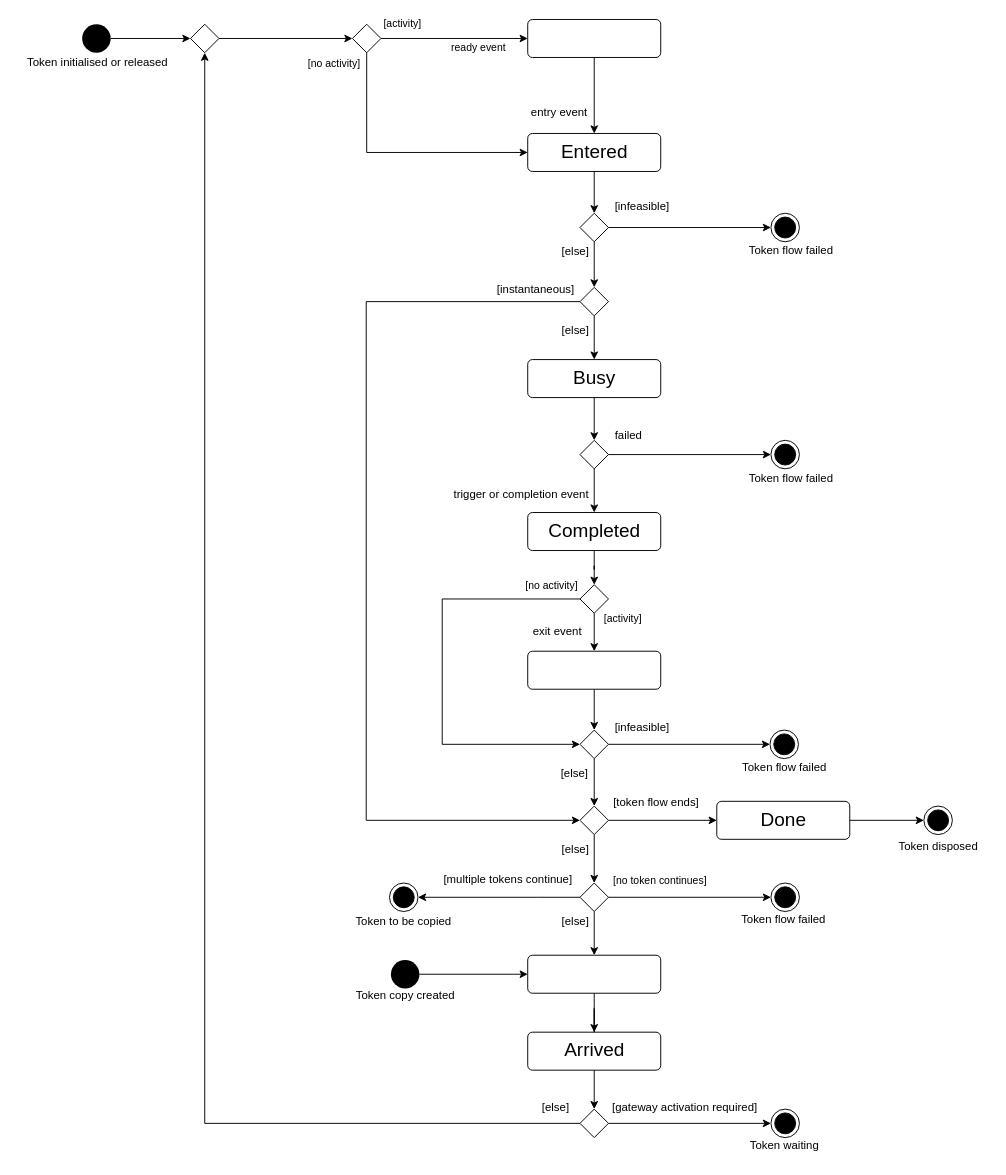
Image size: 1006x1175. Some labels were removed from this diagram. Each missing label, with the centre of its shape:
Departed: [594,973]
Exiting: [594,669]
Ready: [594,38]
